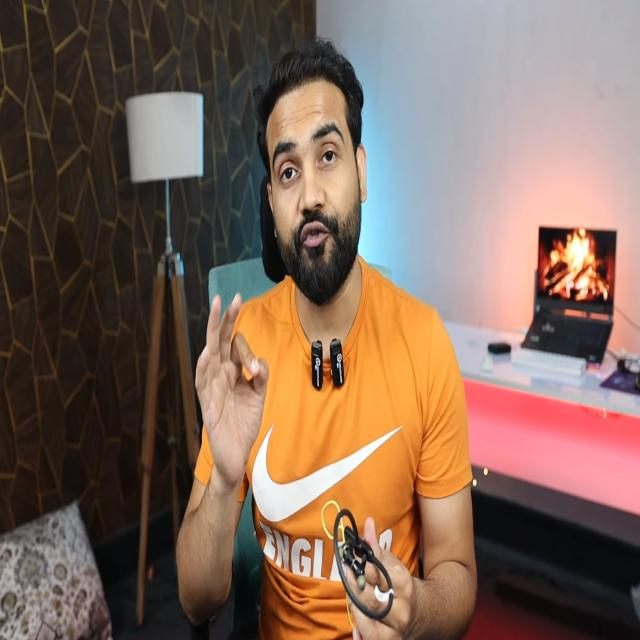Neckband: (321, 499, 394, 630)
